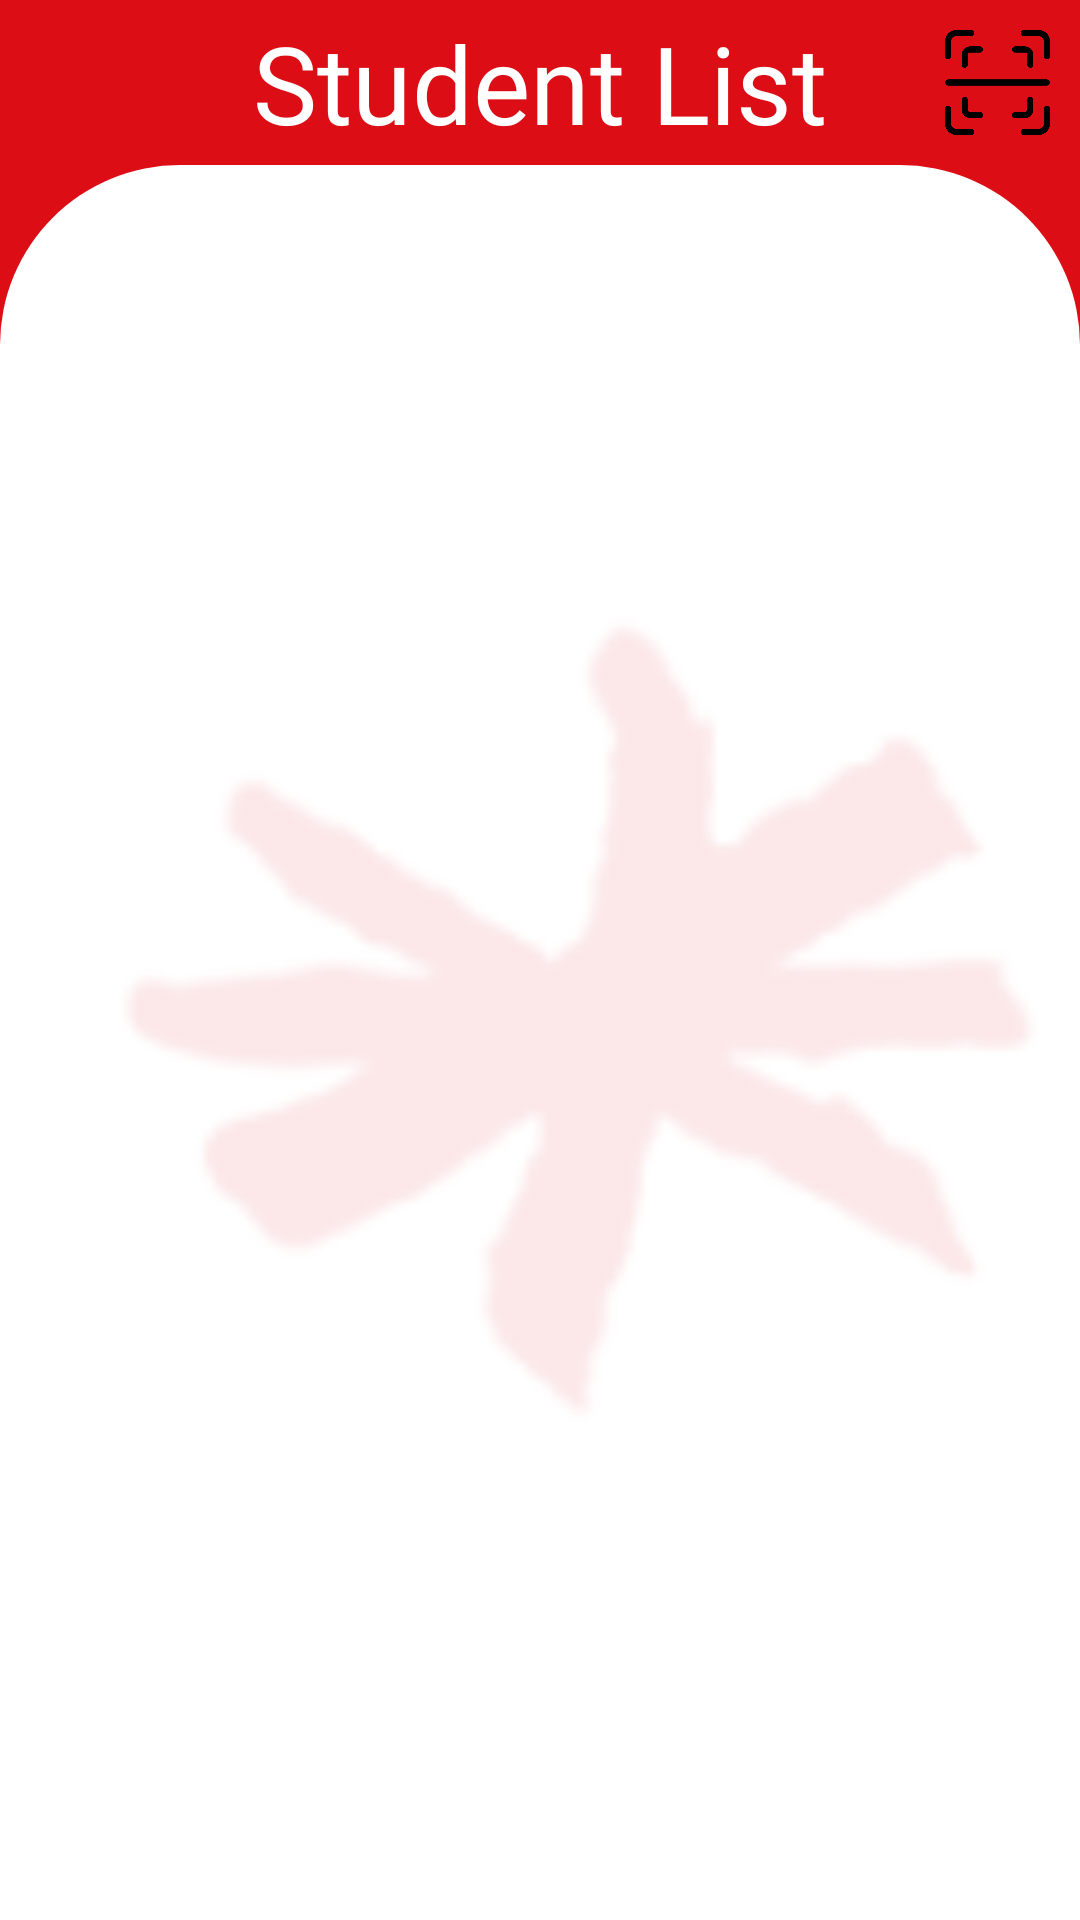

Where icons sit on this 1080×1920 app screen, as detection(x1, y1, x2, y2):
qr scan: detection(945, 30, 1050, 135)
